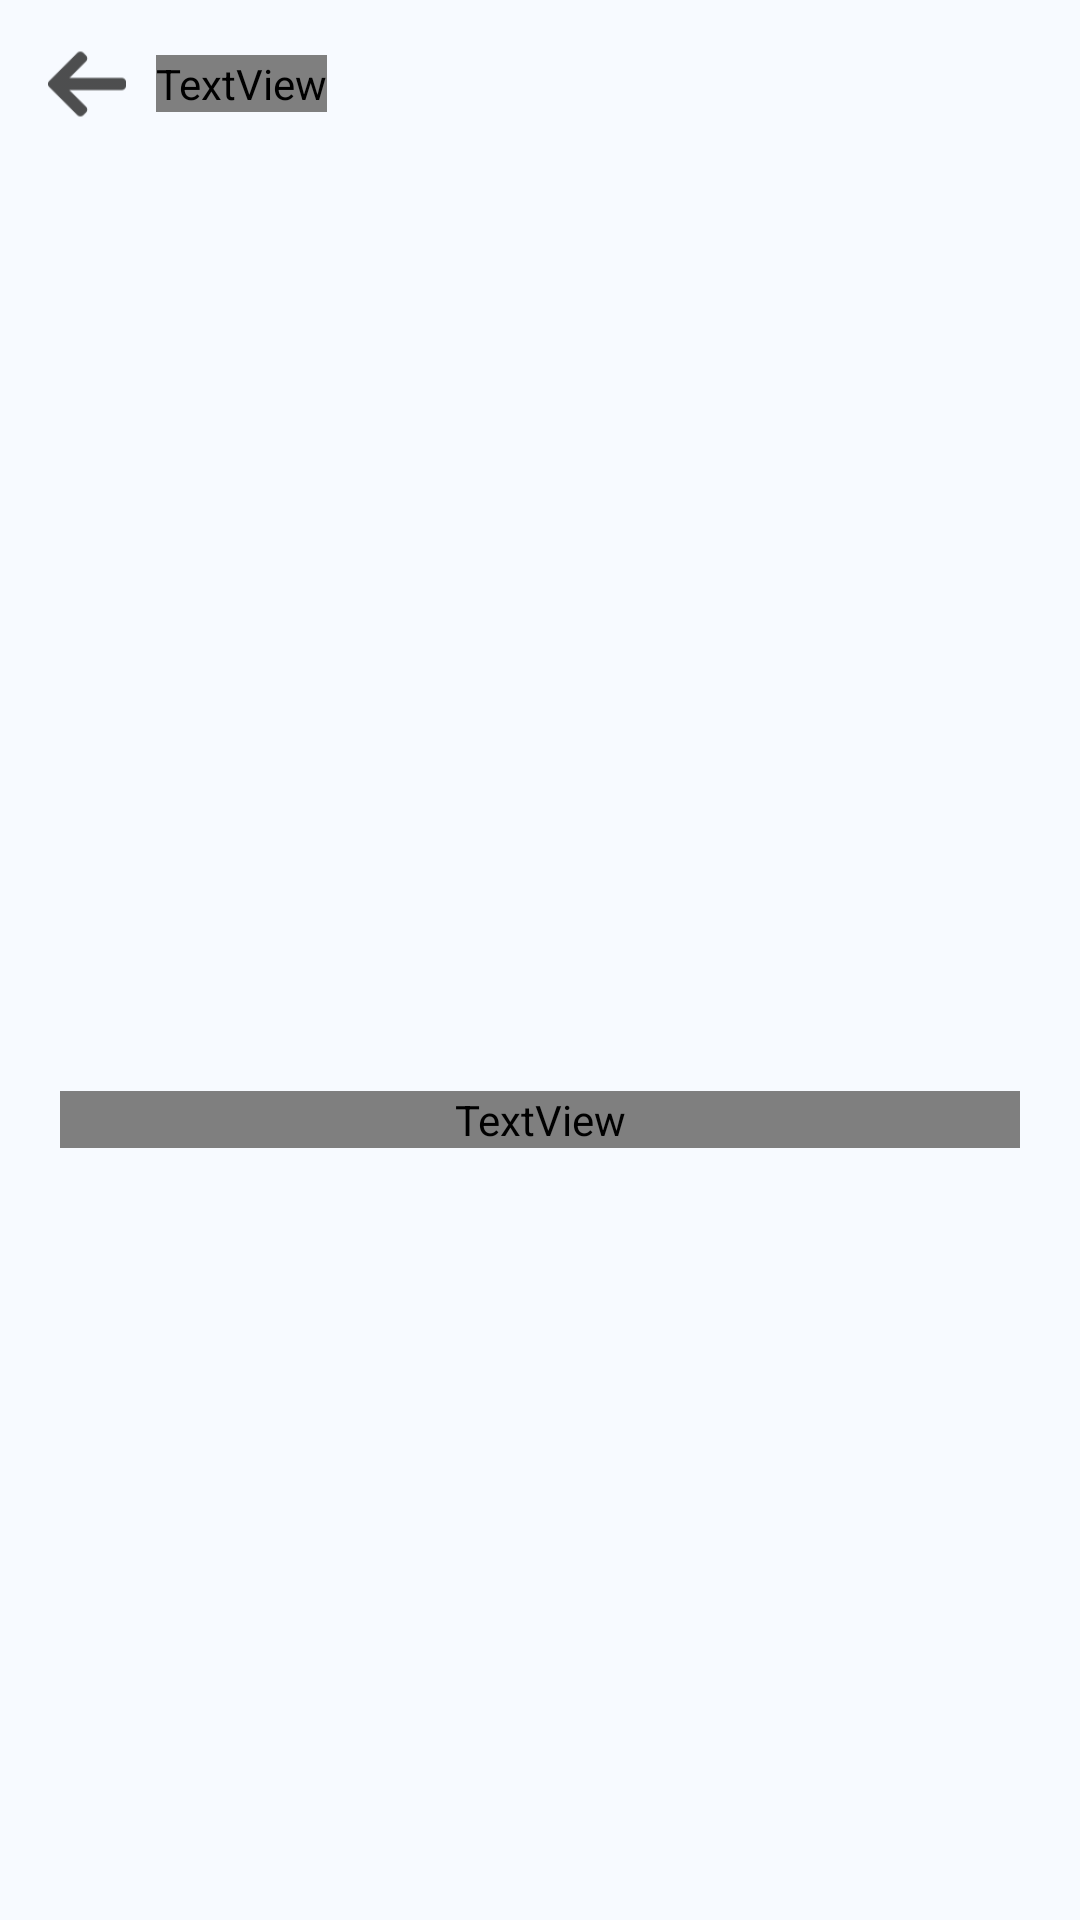

Screen size 1080w x 1920h. Icon name, then its center in pixels as [x,y]:
back arrow: [87,84]
